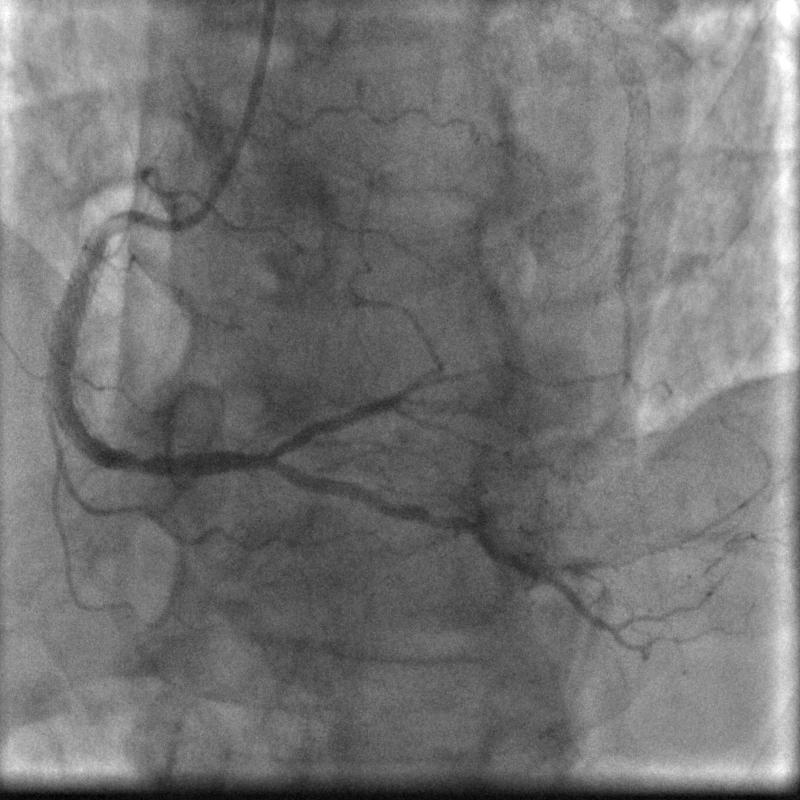Stenosis: (100, 200, 163, 245)
